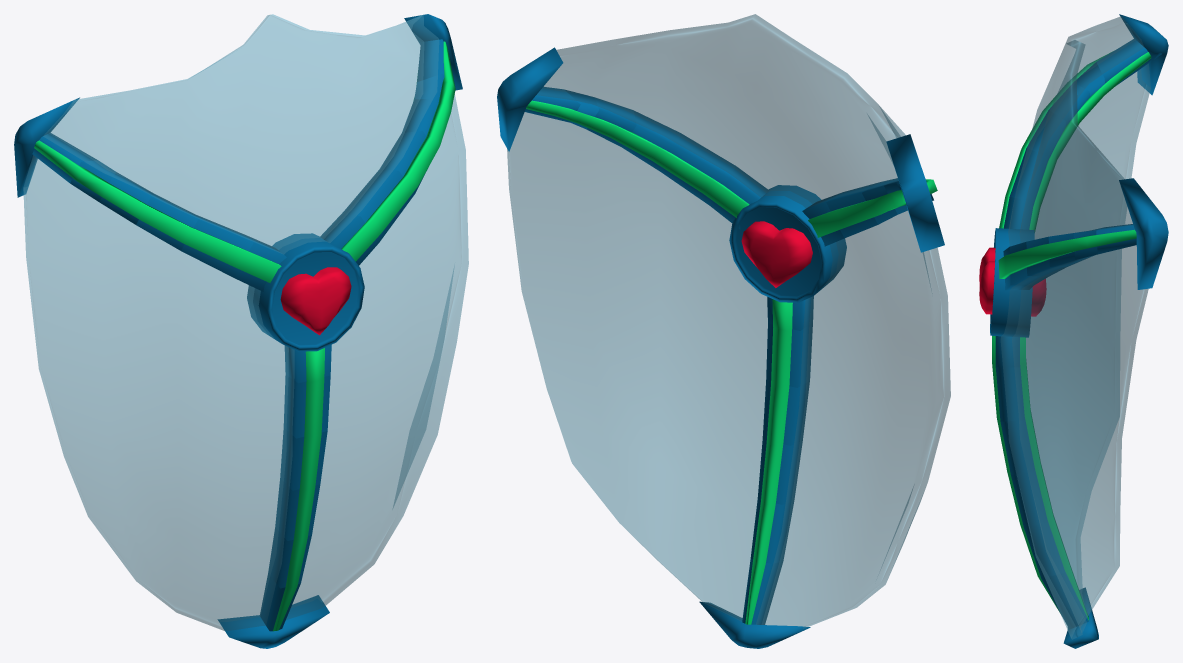
The model's file is NewShieldModel.fbx.
3 renders of one model, left to right at view 1: azimuth 30°, elevation 25°; view 2: azimuth 150°, elevation 25°; view 3: azimuth 270°, elevation 25°, orthographic. The views are drawn at different scales.
Visible parts, largest first — view 1: Shield, EnergyBar, pCylinder1, Skeleton, Triangle (×3), pCube2, Skeleton_1 (×2), Skeleton_2 (×2), Skeleton_3 (×2), Skeleton_5 (×2), Skeleton_4 (×2), Skeleton_0 (×2); view 2: Shield, EnergyBar, Triangle (×3), Skeleton, pCylinder1, pCube2, Skeleton_1 (×2), Skeleton_2, Skeleton_3, Skeleton_4, Skeleton_5, Skeleton_0; view 3: Shield, EnergyBar, Triangle (×3), pCylinder1, Skeleton, Skeleton_1 (×2), Skeleton_5 (×2), Skeleton_2 (×2), Skeleton_3 (×2), Skeleton_4 (×2), Skeleton_0 (×2), pCube2.
Part boxes in pixels (x1,y1,x2,y2): Shield: [23, 14, 468, 630]; EnergyBar: [34, 41, 455, 631]; pCylinder1: [247, 233, 364, 351]; Skeleton: [320, 39, 444, 265]; Triangle (×3): [14, 14, 462, 648]; pCube2: [280, 267, 351, 335]; Skeleton_1 (×2): [181, 214, 330, 438]; Skeleton_2 (×2): [136, 194, 327, 490]; Skeleton_3 (×2): [99, 172, 320, 540]; Skeleton_5 (×2): [32, 132, 300, 631]; Skeleton_4 (×2): [70, 160, 311, 588]; Skeleton_0 (×2): [234, 235, 331, 383]; Shield: [507, 14, 950, 628]; EnergyBar: [526, 100, 937, 624]; Triangle (×3): [497, 47, 944, 648]; Skeleton: [525, 87, 768, 229]; pCylinder1: [729, 185, 846, 302]; pCube2: [741, 221, 812, 287]; Skeleton_1 (×2): [766, 182, 879, 387]; Skeleton_2: [762, 380, 809, 445]; Skeleton_3: [757, 439, 802, 504]; Skeleton_4: [750, 499, 794, 563]; Skeleton_5: [742, 559, 782, 624]; Skeleton_0: [767, 296, 813, 330]; Shield: [1001, 16, 1150, 639]; EnergyBar: [992, 51, 1151, 620]; Triangle (×3): [1063, 14, 1168, 648]; pCylinder1: [990, 228, 1034, 337]; Skeleton: [1003, 224, 1136, 290]; Skeleton_1 (×2): [995, 148, 1047, 421]; Skeleton_5 (×2): [1041, 39, 1161, 629]; Skeleton_2 (×2): [1000, 110, 1065, 474]; Skeleton_3 (×2): [1011, 83, 1090, 527]; Skeleton_4 (×2): [1024, 62, 1104, 578]; Skeleton_0 (×2): [995, 197, 1033, 367]; pCube2: [979, 247, 1046, 316].
Bounding box in the file's own units: 0.6042 × 0.8225 × 0.2327.
